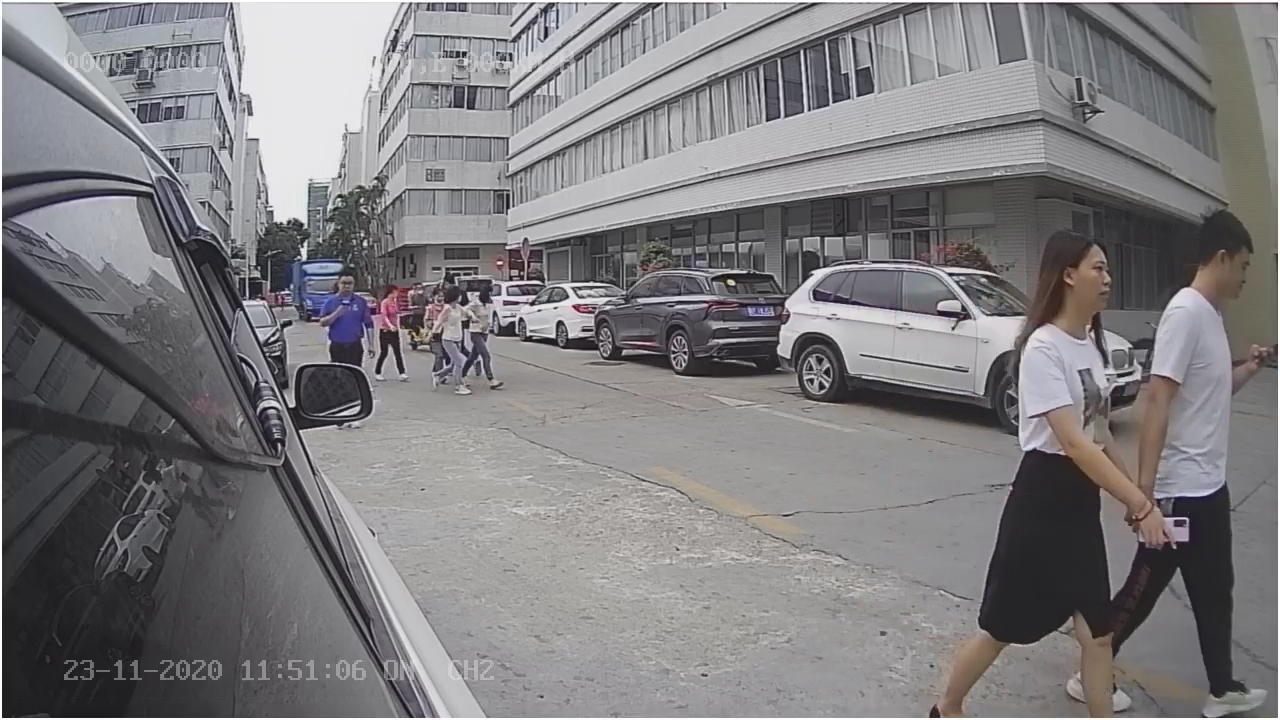person: (1125, 197, 1275, 716)
